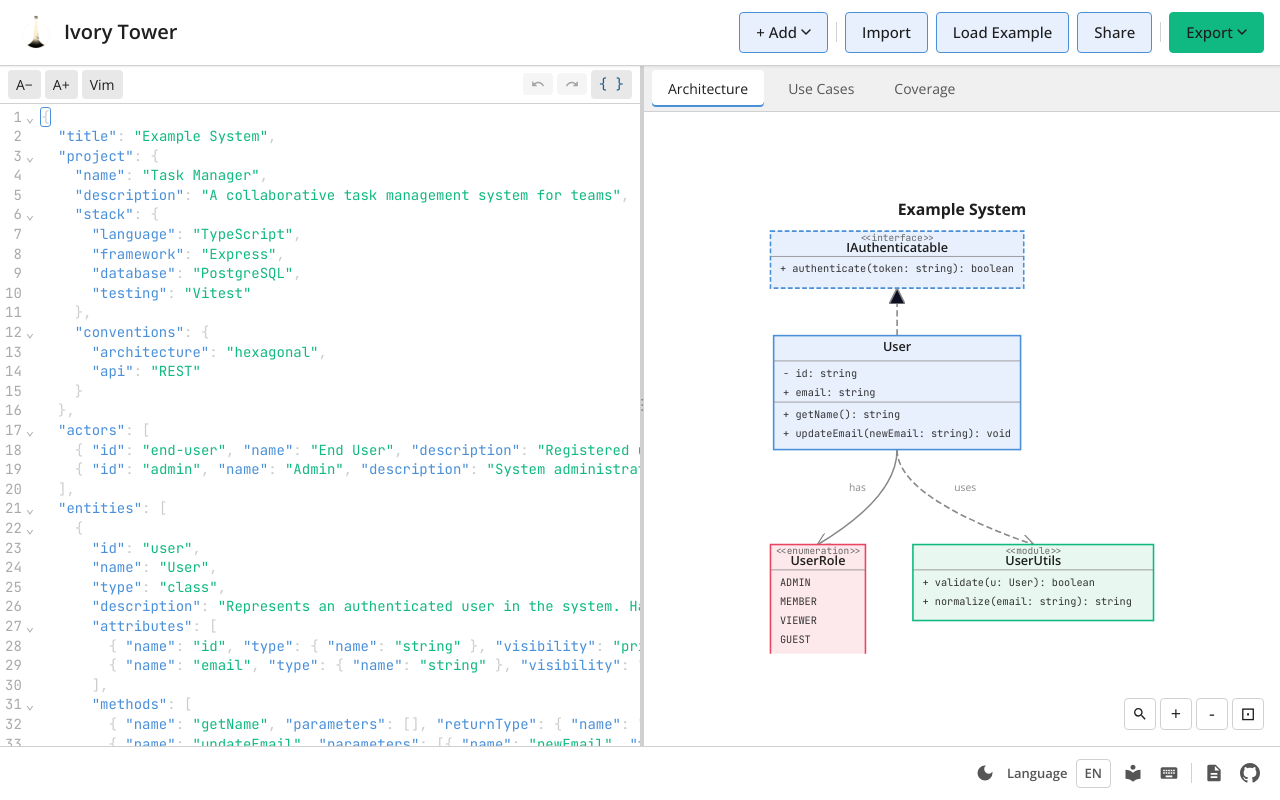
Test: App › export dropdown state › shows export options when dropdown is opened
Step 1. Click the button "Export" → (1217, 32), box [1169,12,1264,52]
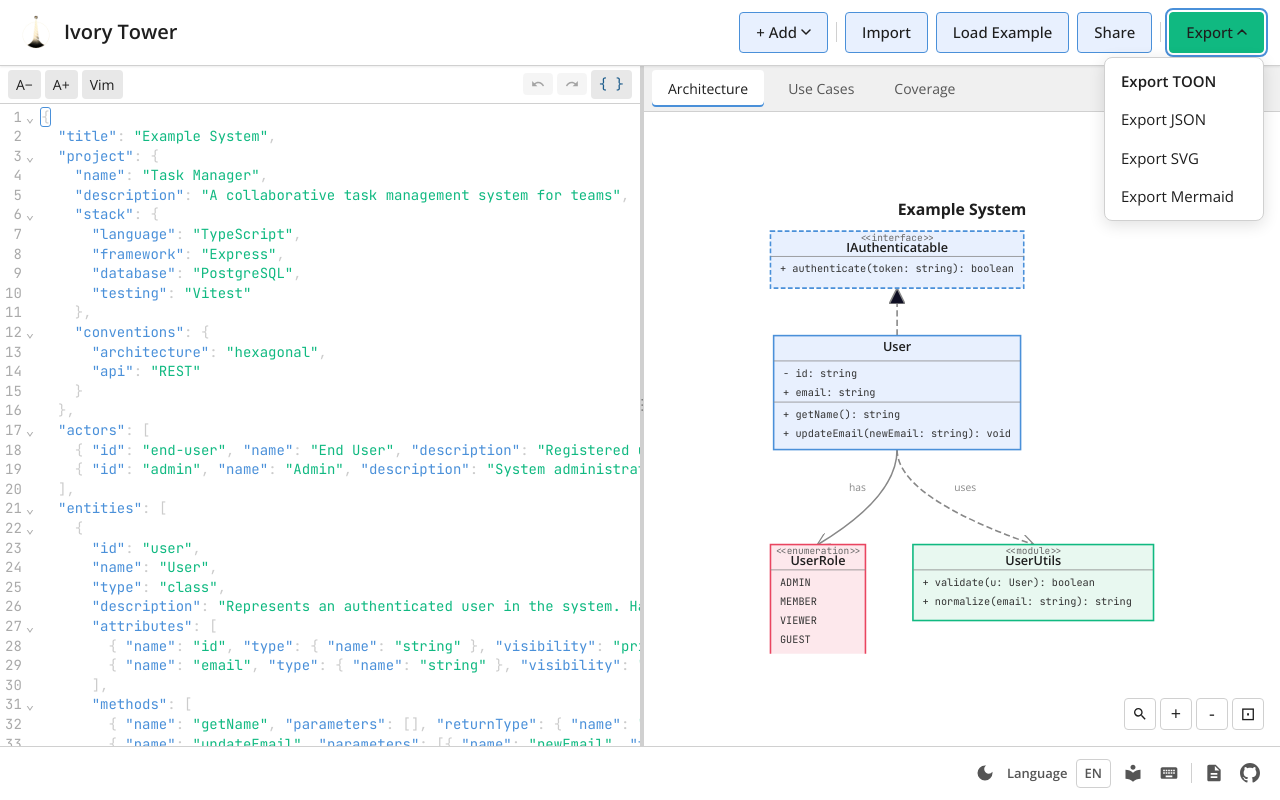
expect the menu item "Export TOON" is shown: met, box [1105,62,1263,100]
expect the menu item "Export JSON" is shown: met, box [1105,100,1263,138]
expect the menu item "Export SVG" is shown: met, box [1105,138,1263,177]
